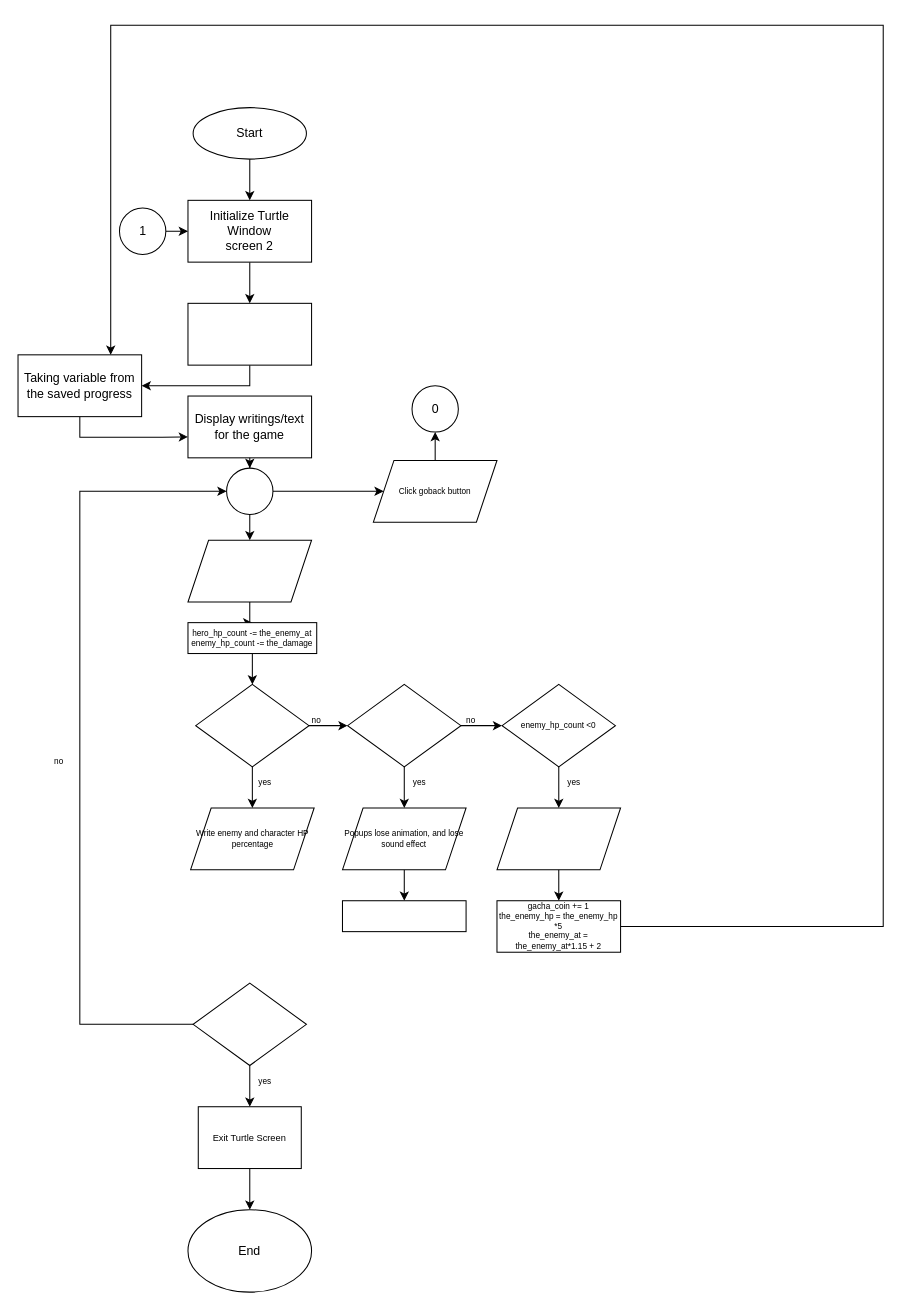
Some shapes in this 909 by 1310 pixel diagram are drawn without their labels. Here are the shapes that lost their labels. From the top down, the centre of each, then its label:
the point at 249,333: Display main screen image
the point at 249,570: Click Punch
the point at 252,725: enemy_hp_count > 0 and hero_hp_count > 0
the point at 404,725: hero_hp_count < 0
the point at 558,838: Popups win animation, and win sound effect
the point at 403,916: enemy and hero hp goes back to 100%
the point at 249,1024: Click close button
